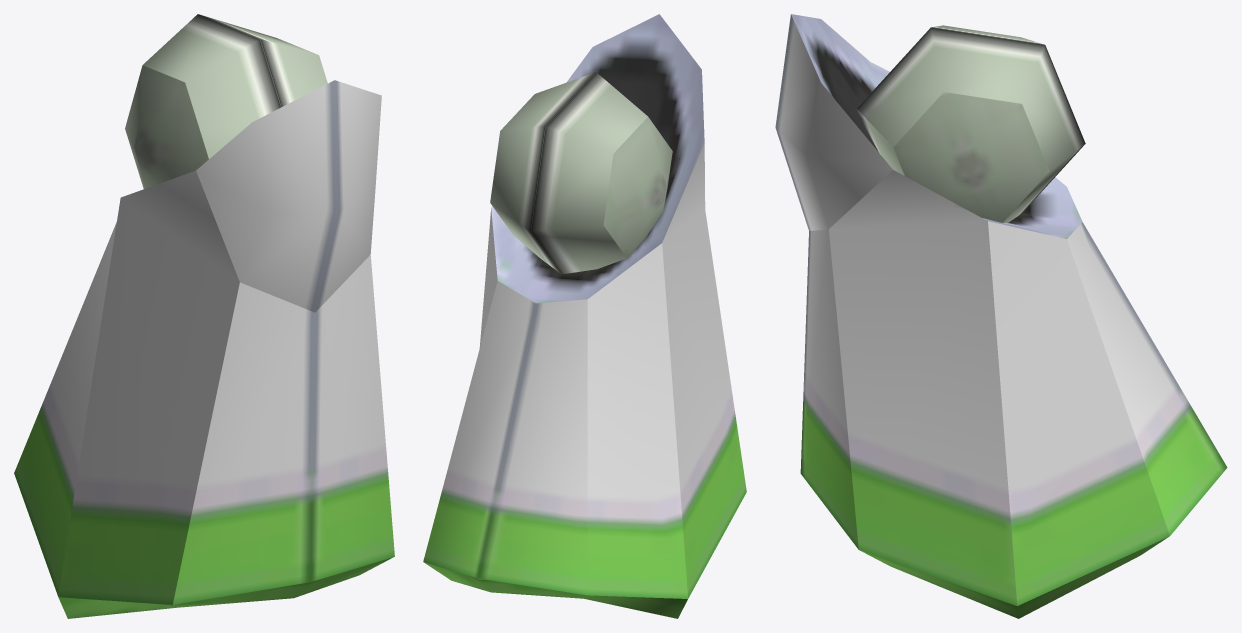
Rendered from buzzlightyRightCalf.obj.
3 renders of one model, left to right at view 1: azimuth 30°, elevation 25°; view 2: azimuth 150°, elevation 25°; view 3: azimuth 270°, elevation 25°, orthographic. The views are drawn at different scales.
Visible parts, largest first — view 1: buzzlightyRightCalf_buzzlighty.026; view 2: buzzlightyRightCalf_buzzlighty.026; view 3: buzzlightyRightCalf_buzzlighty.026.
Part boxes in pixels (x1=…): buzzlightyRightCalf_buzzlighty.026: x1=14, y1=14, x2=394, y2=618; buzzlightyRightCalf_buzzlighty.026: x1=423, y1=14, x2=746, y2=618; buzzlightyRightCalf_buzzlighty.026: x1=775, y1=14, x2=1227, y2=618.
Bounding box in the file's own units: 0.1019 × 0.2179 × 0.1597.
1 material, 1 textured.
